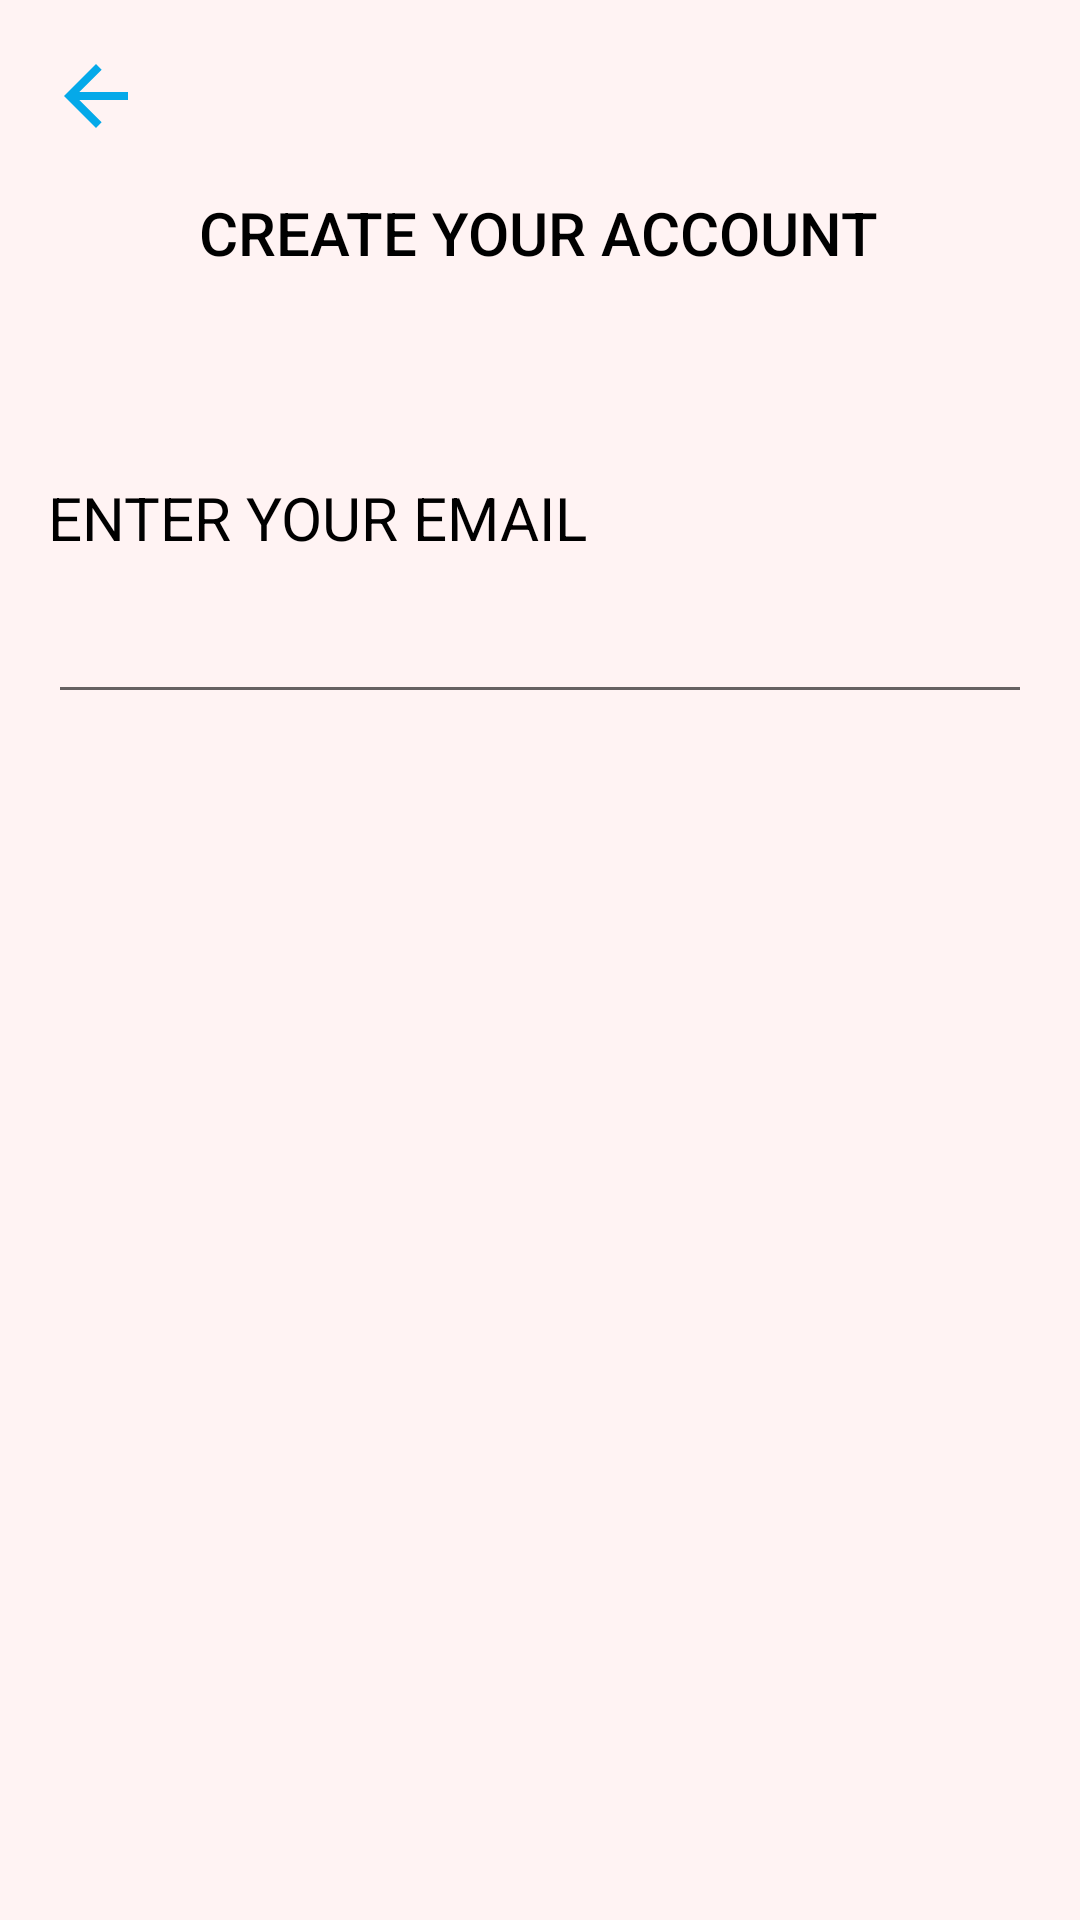

Named icons in this screenshot (1080 × 1920) and their centers, (x=x, y=y):
arrow back: (x=96, y=96)
